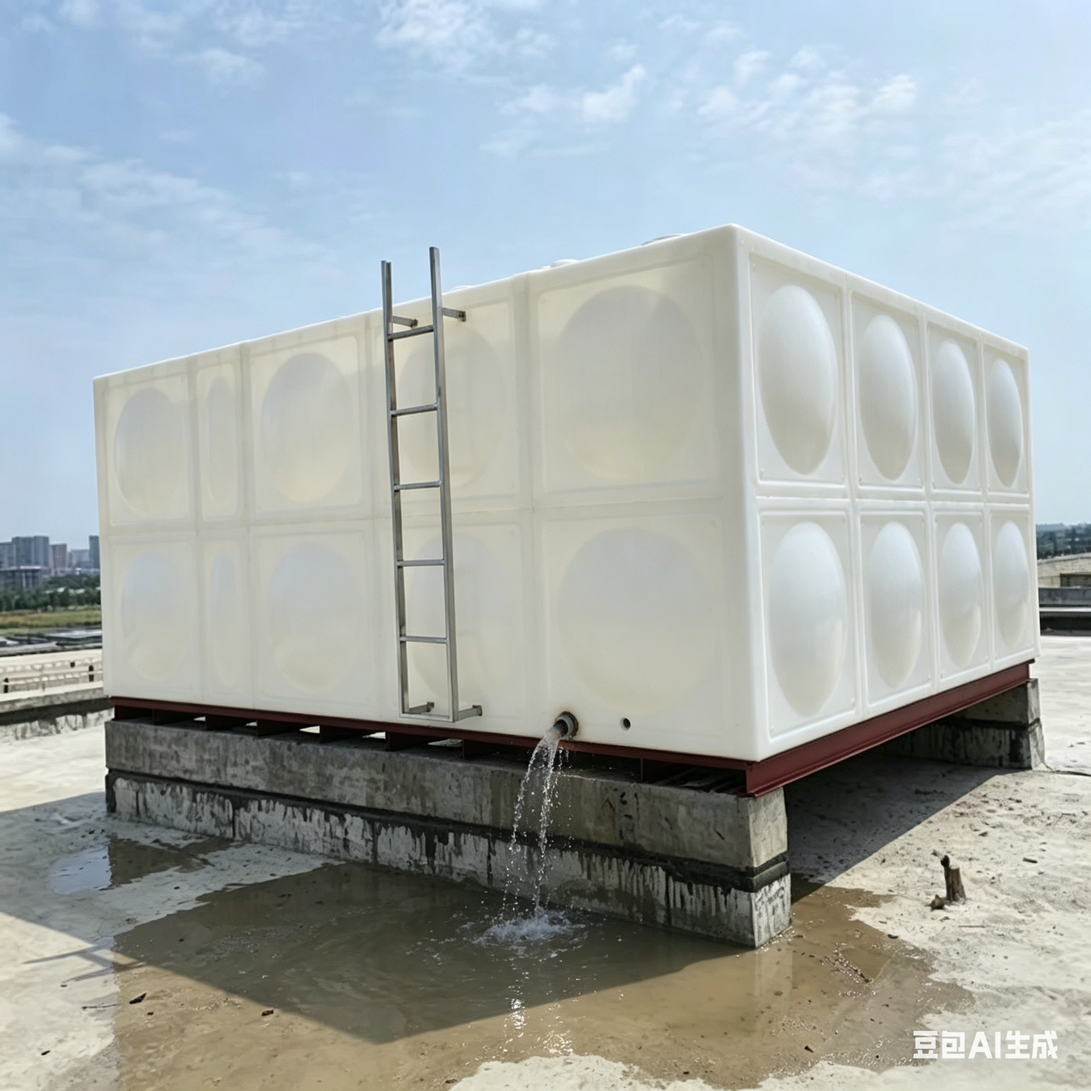Leakage: (630, 844, 955, 1085), (116, 947, 487, 1091), (497, 702, 624, 1059), (180, 882, 485, 949), (36, 840, 142, 898)
